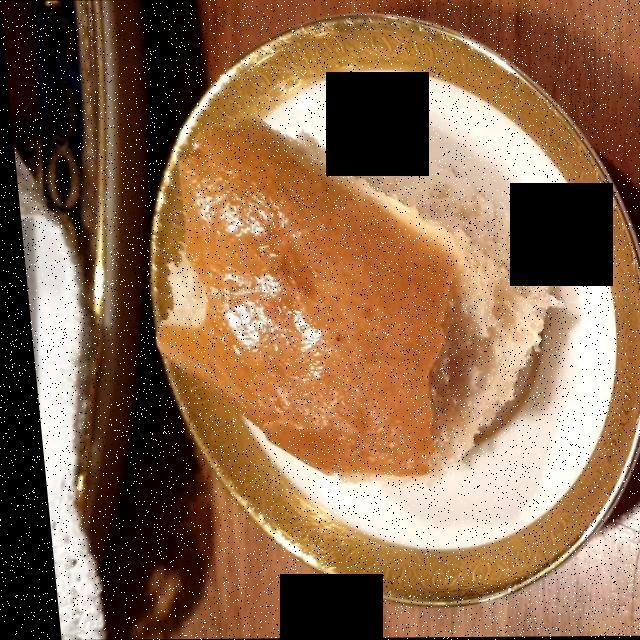bread: (152, 123, 550, 476)
